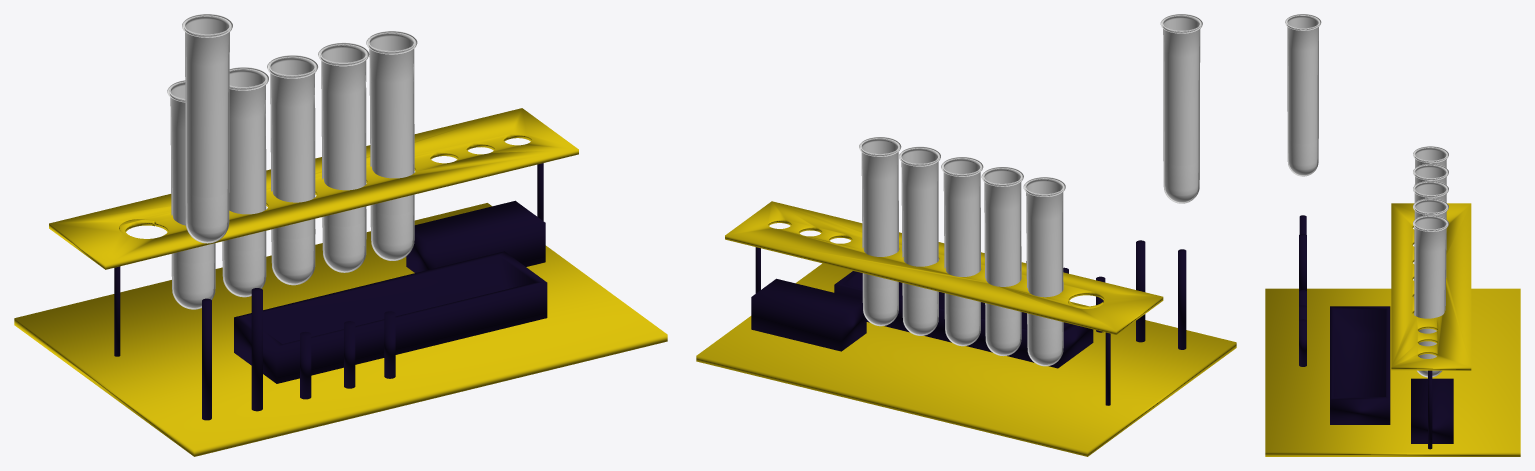
Rendered from testTubes_Nov26.glb.
3 views of the same model, side by side, from view 1: azimuth 30°, elevation 25°; view 2: azimuth 150°, elevation 25°; view 3: azimuth 270°, elevation 25° (orthographic). The views are drawn at different scales.
Visible parts, largest first — view 1: Cube.001, tube0, tube4, tube3, tube5, tube2, tube1, Cylinder.003, Cylinder.001, Cylinder.005, Cylinder.004, Cylinder.006; view 2: Cube.001, tube0, tube1, tube2, tube4, tube5, tube3, Cylinder.001, Cylinder.003; view 3: Cube.001, tube0, tube5, tube3, tube1, tube4, tube2, Cylinder.003, Cylinder.002, Cylinder.006.
Boxes of the visible parts, <box> form: Cube.001: <box>14,108,667,456</box>; tube0: <box>182,14,232,243</box>; tube4: <box>318,42,369,272</box>; tube3: <box>267,55,318,285</box>; tube5: <box>366,31,417,260</box>; tube2: <box>222,67,268,297</box>; tube1: <box>167,80,215,309</box>; Cylinder.003: <box>251,288,262,411</box>; Cylinder.001: <box>202,298,211,420</box>; Cylinder.005: <box>344,321,355,388</box>; Cylinder.004: <box>300,331,311,399</box>; Cylinder.006: <box>384,311,395,378</box>; Cube.001: <box>696,201,1236,456</box>; tube0: <box>1160,14,1202,203</box>; tube1: <box>1023,177,1065,366</box>; tube2: <box>981,167,1023,356</box>; tube4: <box>899,146,940,335</box>; tube5: <box>859,137,901,326</box>; tube3: <box>941,157,983,346</box>; Cylinder.001: <box>1178,249,1186,349</box>; Cylinder.003: <box>1136,240,1145,342</box>; Cube.001: <box>1265,203,1520,456</box>; tube0: <box>1285,14,1321,176</box>; tube5: <box>1413,215,1448,377</box>; tube3: <box>1413,180,1448,314</box>; tube1: <box>1413,146,1448,280</box>; tube4: <box>1413,198,1448,294</box>; tube2: <box>1413,163,1448,297</box>; Cylinder.003: <box>1299,233,1306,290</box>; Cylinder.002: <box>1428,370,1432,449</box>; Cylinder.006: <box>1299,319,1306,366</box>.
Size of the model in its own units: 1.52 by 1.24 by 1.
